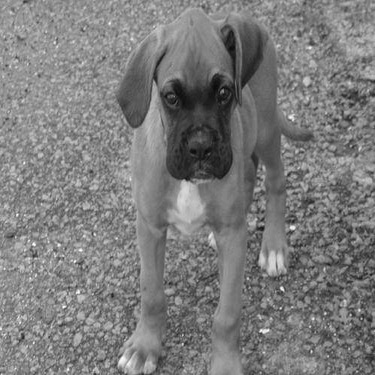dog: (111, 1, 315, 373)
